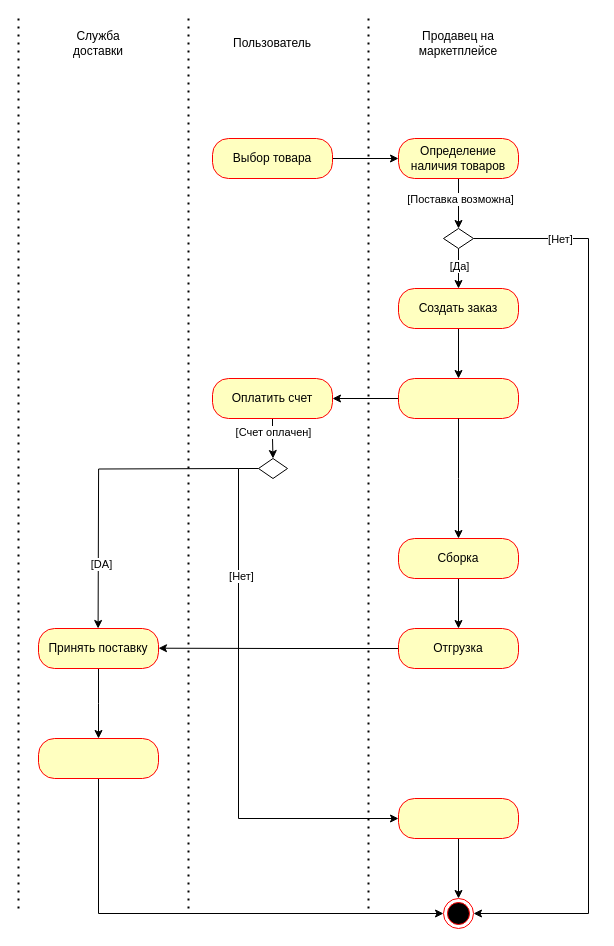
This 614x946 diagram has some shape labels left out. The shapes that lost their labels are listed below. From the top down, each one's centre as x and y in pixels, then its label:
pixel 458 398: Оформить счет
pixel 98 758: Доставить товар в ПВЗ
pixel 458 818: Отмена заказа
